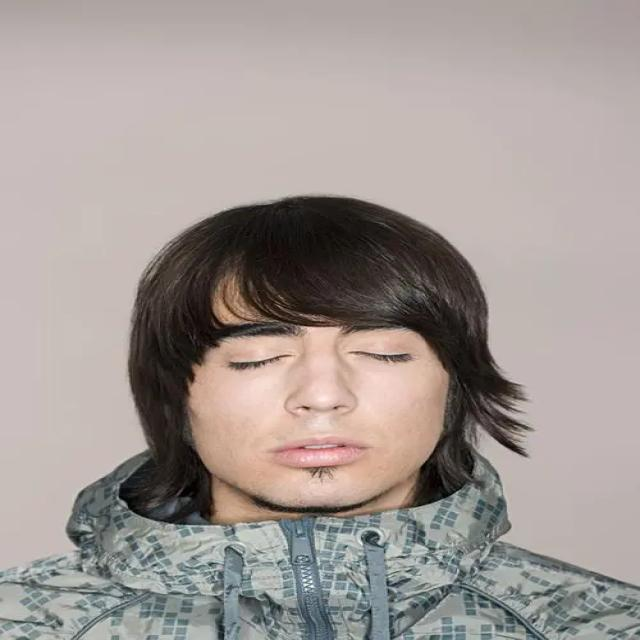Closed: (223, 351, 293, 371), (346, 346, 417, 364)
